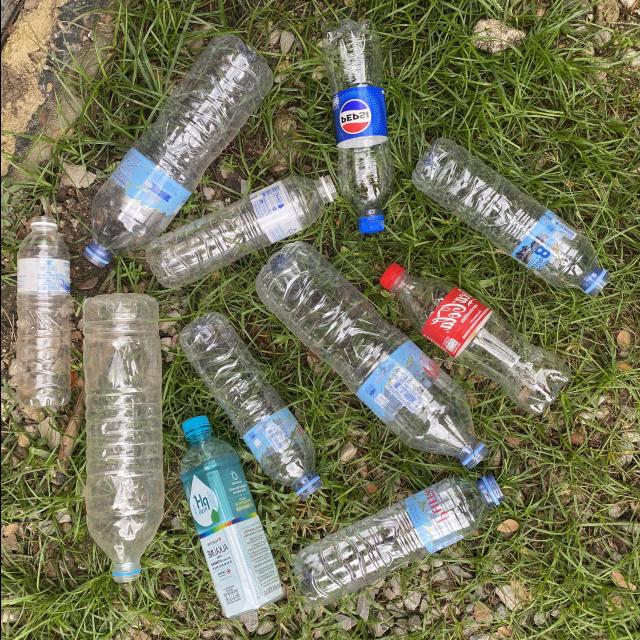plastik: (255, 241, 486, 469), (84, 34, 273, 266), (411, 138, 609, 295), (379, 264, 569, 413), (293, 475, 503, 606), (178, 312, 322, 498), (82, 293, 163, 582), (144, 176, 337, 288), (180, 416, 283, 618), (322, 19, 393, 232), (15, 216, 70, 407)
